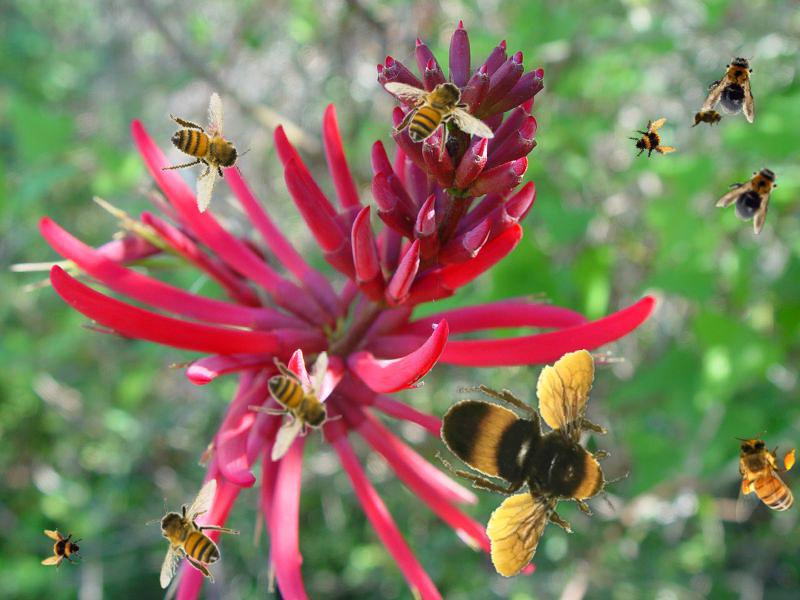Bee: (425, 346, 639, 585), (141, 86, 268, 222), (384, 68, 495, 162), (146, 478, 240, 589), (248, 351, 342, 462), (713, 150, 795, 236), (731, 431, 799, 524), (701, 46, 767, 124), (622, 110, 680, 168), (41, 528, 85, 572), (688, 107, 728, 129)
